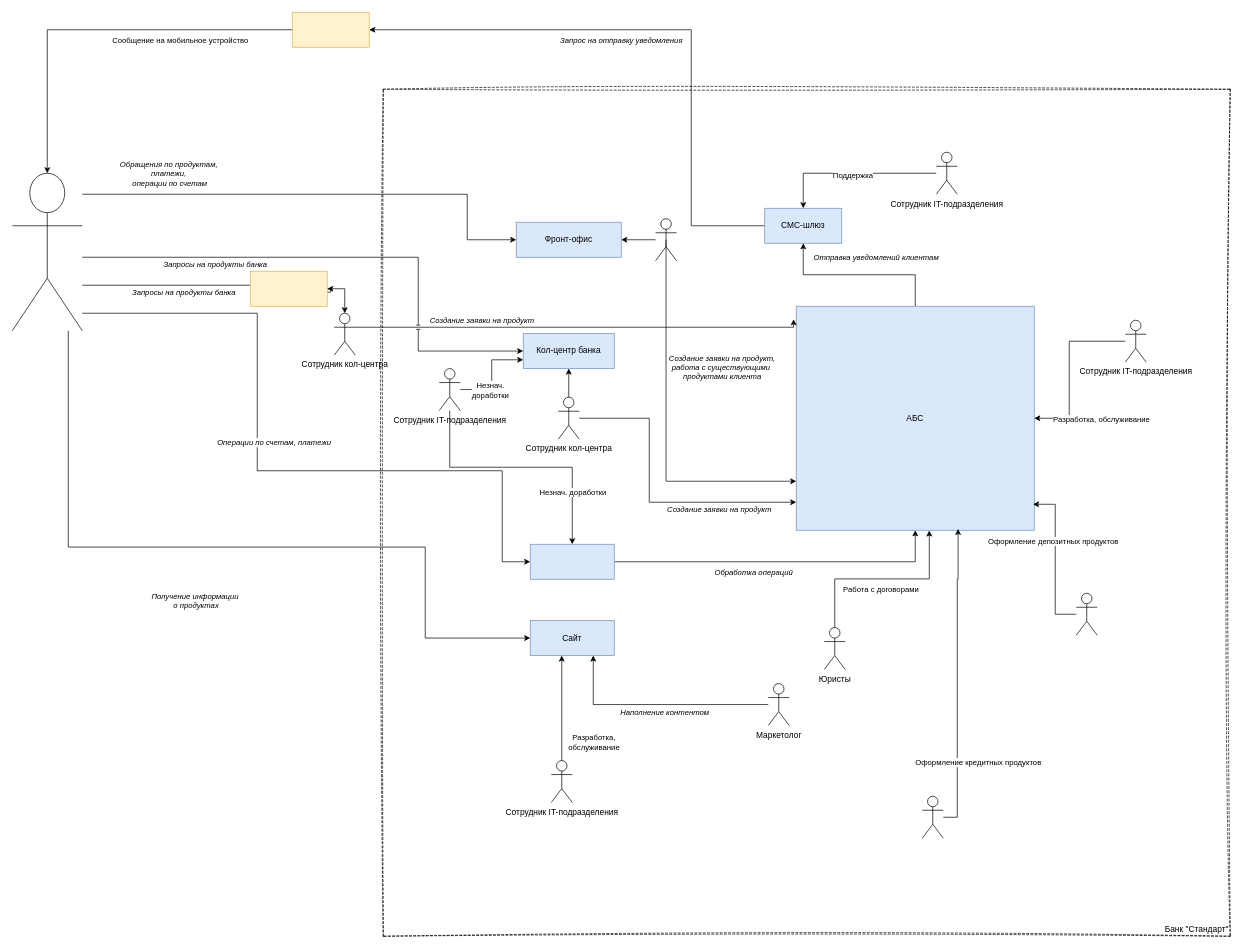
Image size: 1243x949. Some labels were removed from this diagram. Here are the shapes that lost their labels. From the top down, the centre of each, then its label:
point 330,29: Телеком-оператор
point 47,252: Клиент
point 666,239: Сотрудник фронт-офиса
point 288,288: Партнерский кол-центр
point 572,561: Интернет-банк
point 1086,614: Сотрудники депозитного отдела
point 932,817: Сотрудники кредитного отдела
